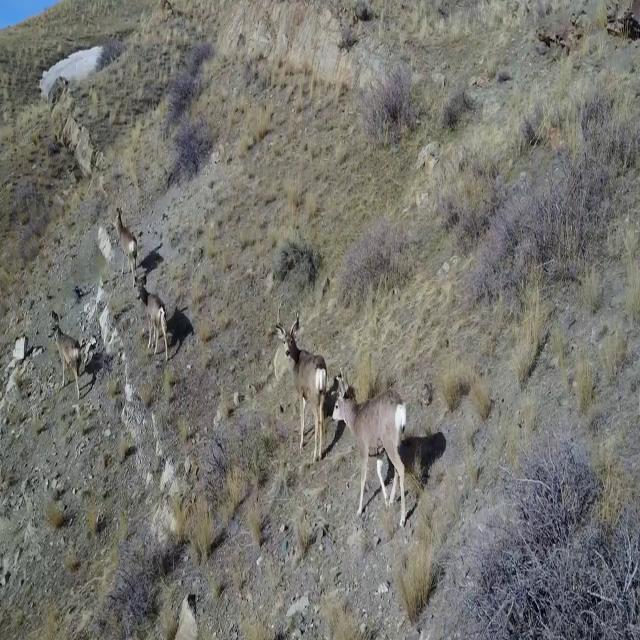Deer: (332, 372, 410, 530), (276, 299, 332, 465), (46, 306, 88, 402), (134, 277, 170, 363), (109, 198, 138, 290)
